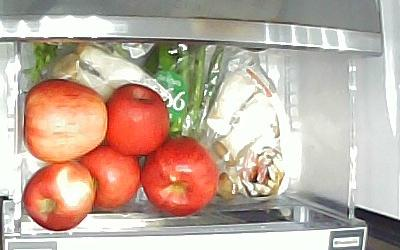apple: (26, 78, 108, 163), (141, 137, 217, 216), (24, 163, 96, 232), (105, 82, 169, 157), (81, 144, 140, 212)
